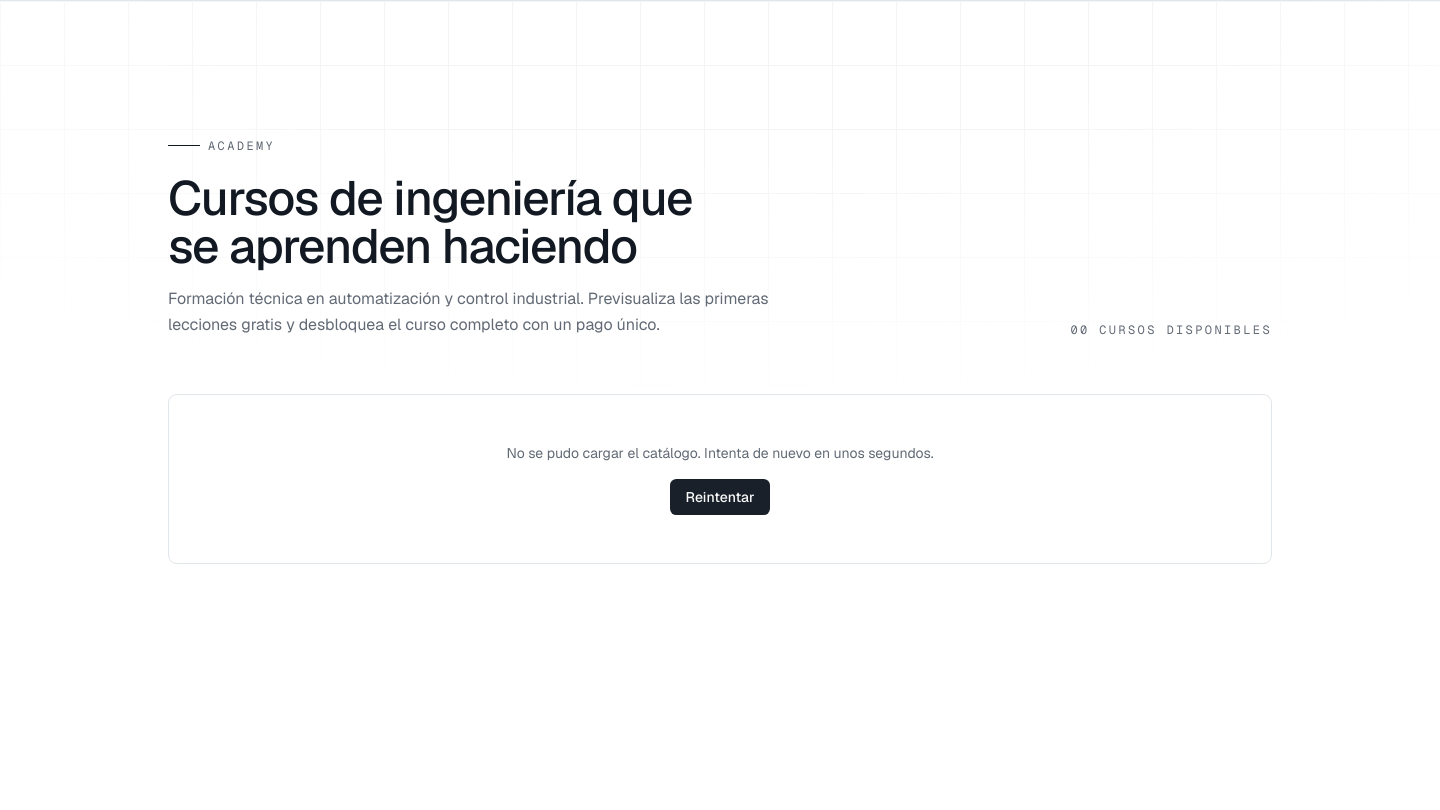
Test: AcademySection › test_academy_section_error_state_retries
Expected: the text "No se pudo cargar el catálogo. Intenta de nuevo en unos segundos." is shown, [506,442,934,462]
Click the button "Reintentar": point(720, 496) [670,478,770,514]
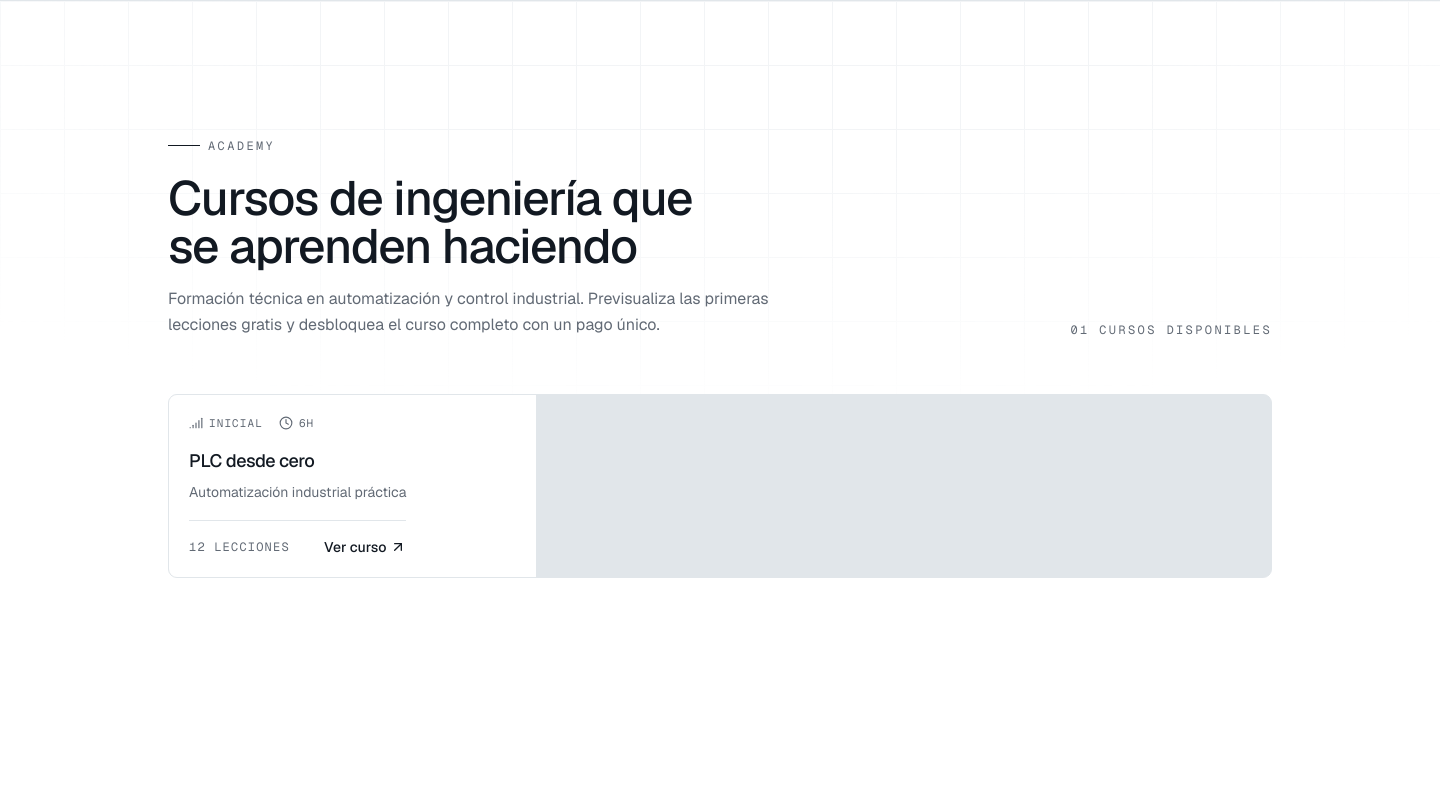
Result: the heading "PLC desde cero" is shown at [189,449,314,472]
